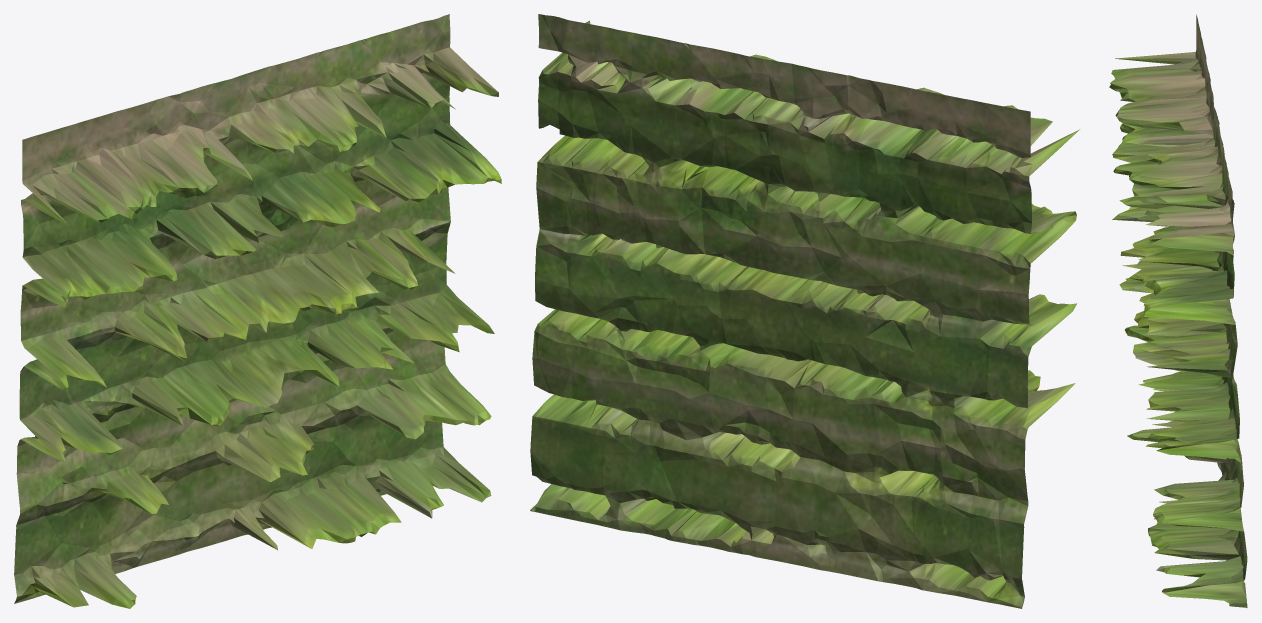
File: map_150_70.obj
The picture shows the model from 3 angles, left to right: view 1: azimuth 30°, elevation 25°; view 2: azimuth 150°, elevation 25°; view 3: azimuth 270°, elevation 25°; orthographic projection. The views are drawn at different scales.
Parts seen in each view (by area): view 1: grp1; view 2: grp1; view 3: grp1.
Boxes of the visible parts, x1,y1,x2,y2 form: grp1: (14,14,501,608); grp1: (530,14,1080,608); grp1: (1109,14,1247,607).
Bounding box in the file's own units: 10 × 10 × 3.1.
Materials: 1 (1 with a texture image).
